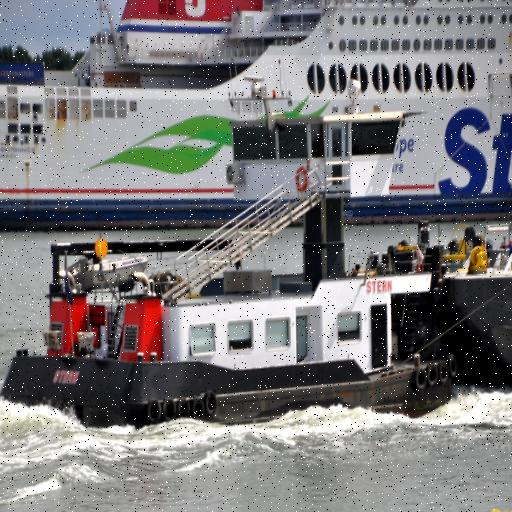tugboat: (1, 73, 463, 446)
